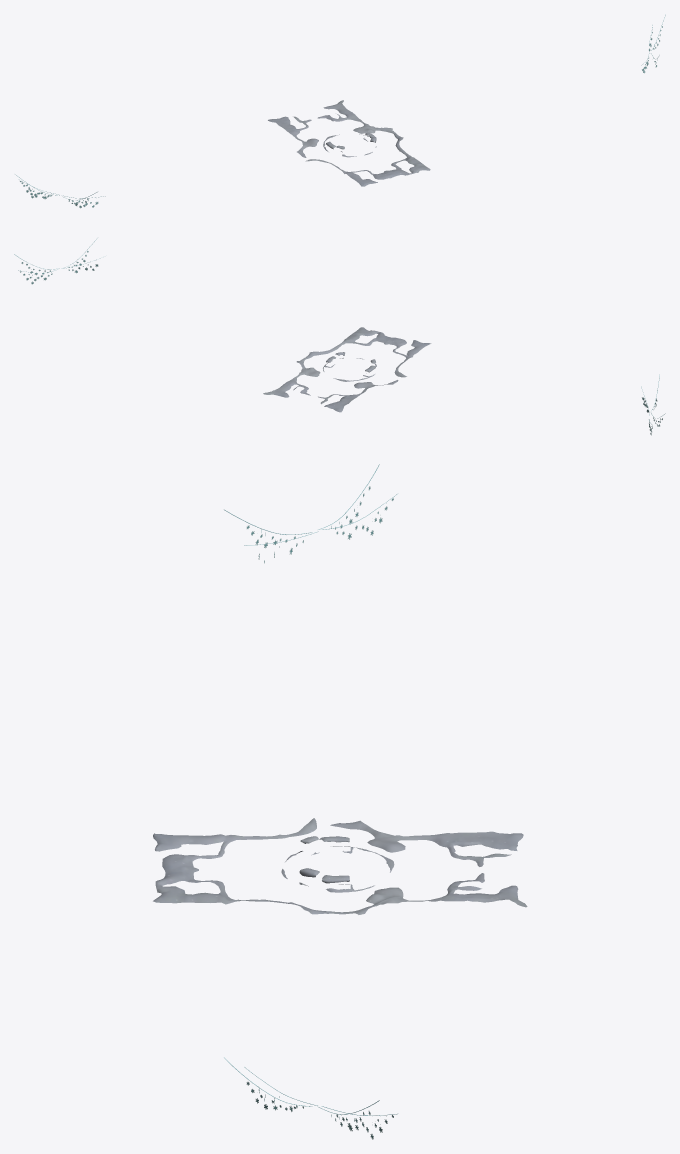
Rendered from pref_Area_Winter_center_snow_lv3.fbx.
3 renders of one model, top to bottom at view 1: azimuth 30°, elevation 25°; view 2: azimuth 150°, elevation 25°; view 3: azimuth 270°, elevation 25°, orthographic. The views are drawn at different scales.
Visible parts, largest first — view 1: pref_sm_beach_winter_centersnow_lv3, pref_sm_beach_winter_snowlight_lv3; view 2: pref_sm_beach_winter_centersnow_lv3, pref_sm_beach_winter_snowlight_mirror_lv3; view 3: pref_sm_beach_winter_centersnow_lv3, pref_sm_beach_winter_centersnow02_lv3.
Boxes of the visible parts, bbox=[...] form: pref_sm_beach_winter_centersnow_lv3: bbox=[268, 100, 430, 186]; pref_sm_beach_winter_snowlight_lv3: bbox=[15, 174, 105, 208]; pref_sm_beach_winter_centersnow_lv3: bbox=[263, 327, 431, 412]; pref_sm_beach_winter_snowlight_mirror_lv3: bbox=[14, 238, 100, 284]; pref_sm_beach_winter_centersnow_lv3: bbox=[153, 818, 527, 914]; pref_sm_beach_winter_centersnow02_lv3: bbox=[281, 836, 394, 892].
Size of the model in its own units: 172 by 11.28 by 42.94.
